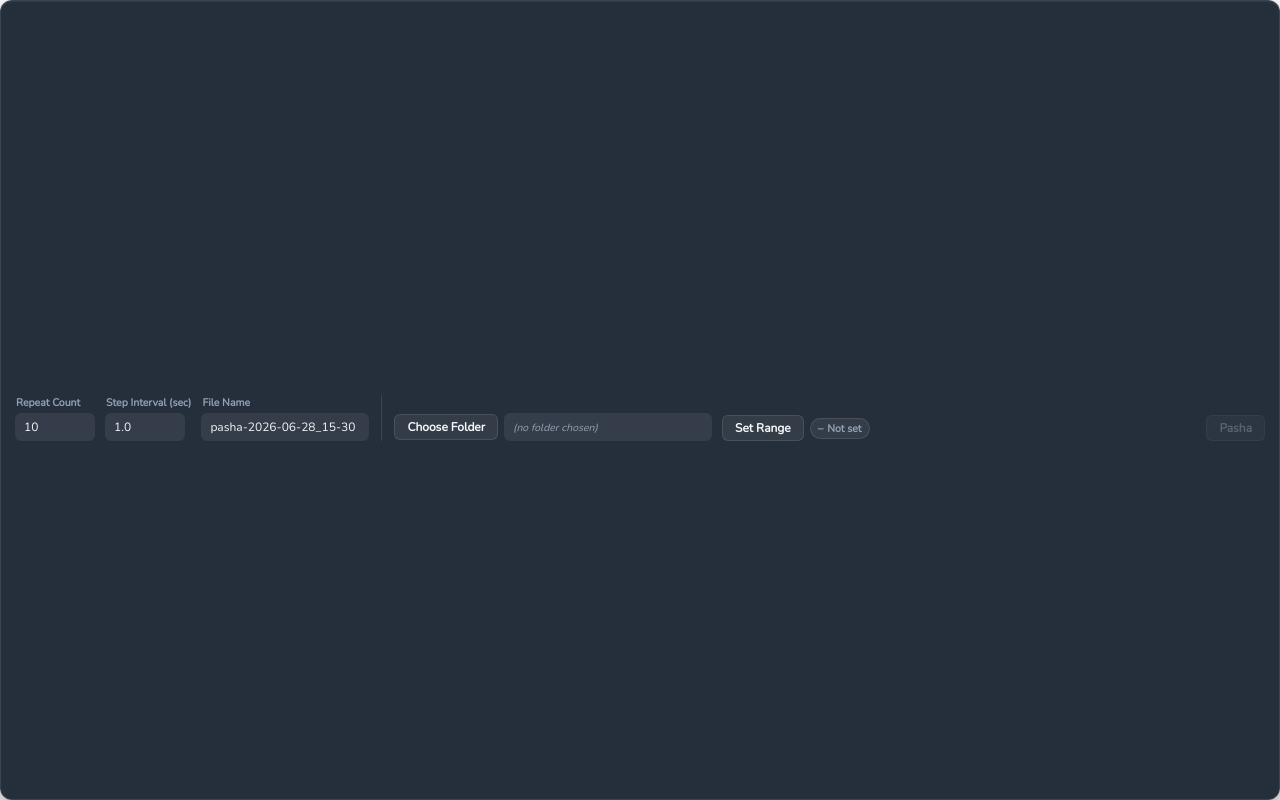
App › shrinks the window and shows the region frame when Set Range is clicked
Click the button "Set Range": (763, 428) [722,415,804,441]
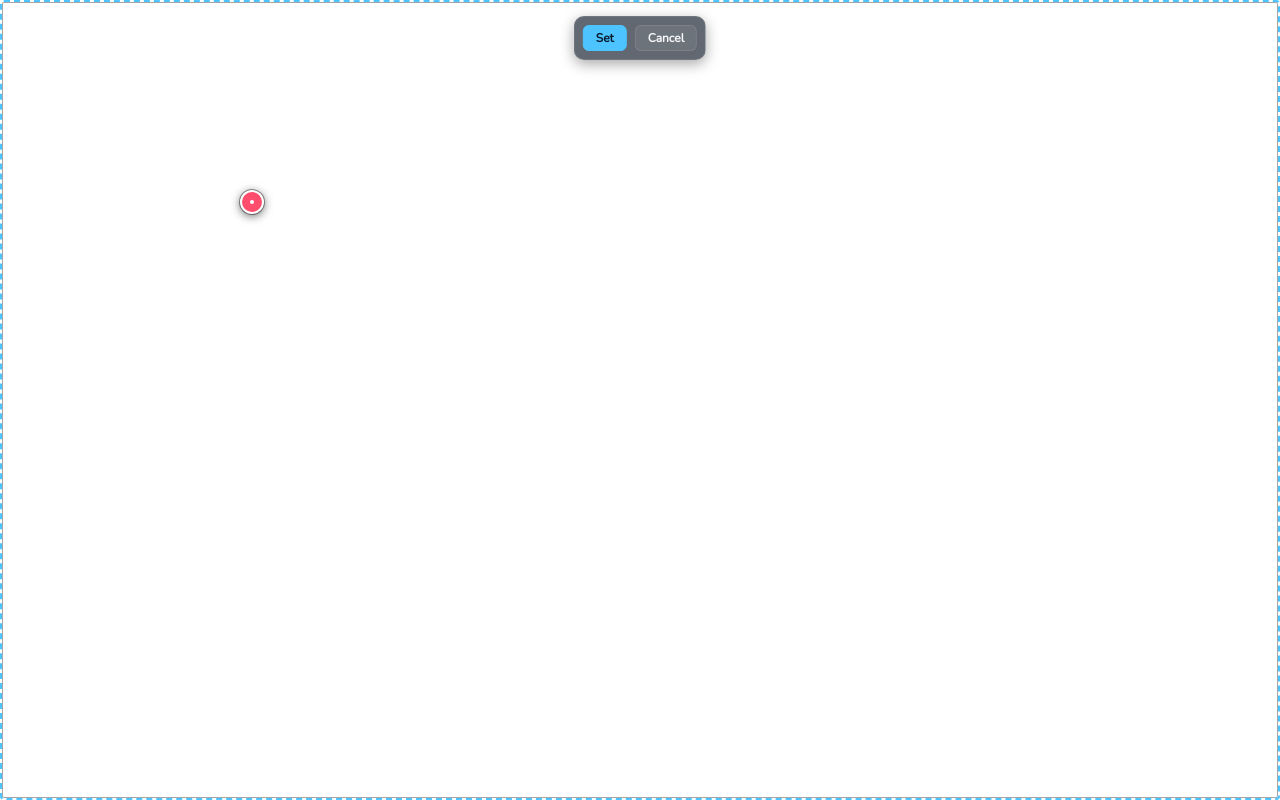
expect the dialog is shown: met
